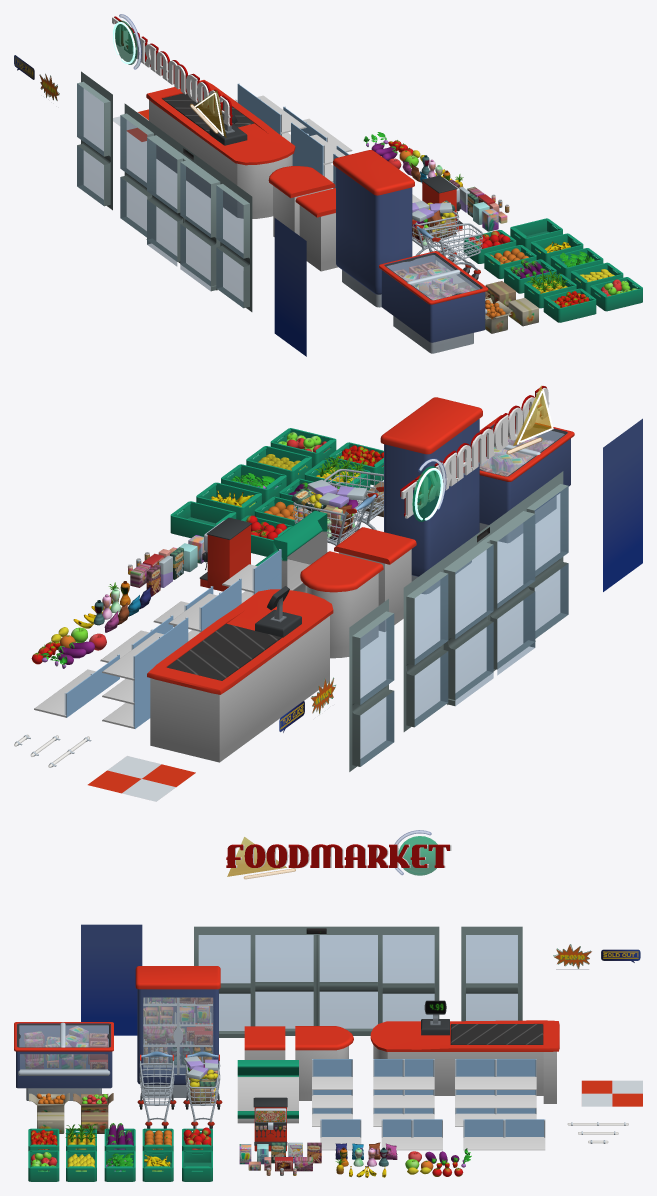
The model's file is market_-_stylized_modular_low_poly_asset_pack.glb.
3 renders of one model, top to bottom at view 1: azimuth 30°, elevation 25°; view 2: azimuth 150°, elevation 25°; view 3: azimuth 270°, elevation 25°, orthographic. The views are drawn at different scales.
Visible parts, largest first — view 1: Door_windows, Caisse, Freezer_Tall, Door, Freezer_long, Wall, Name_Opaque, Counter_Block, Wall_windows_windows, Wall_windows, Counter_Ending, Freezer_long_Glass (+24 smaller); view 2: Caisse, Door_windows, Door, Freezer_Tall, Wall, Name_Opaque, Counter_Ending, Freezer_long, Wall_windows_windows, Wall_windows, Counter_Block, Grocery_Stagger (+25 smaller); view 3: Door_windows, Caisse, Door, Wall, Freezer_Tall, Freezer_long, Name_Opaque, Freezer_tall_Glass, Wall_windows_windows, Freezer_long_Glass, Grocery_Stagger, Freezer_tall_grocery (+31 smaller).
Boxes of the visible parts, bbox=[...] form: Door_windows: bbox=[120, 115, 243, 307]; Caisse: bbox=[146, 80, 295, 218]; Freezer_Tall: bbox=[333, 150, 414, 307]; Door: bbox=[120, 103, 252, 311]; Freezer_long: bbox=[379, 251, 488, 353]; Wall: bbox=[274, 218, 306, 356]; Name_Opaque: bbox=[112, 15, 232, 135]; Counter_Block: bbox=[295, 188, 338, 271]; Wall_windows_windows: bbox=[77, 83, 103, 205]; Wall_windows: bbox=[77, 71, 112, 210]; Counter_Ending: bbox=[268, 166, 335, 236]; Freezer_long_Glass: bbox=[387, 255, 479, 300]; Caisse: bbox=[147, 586, 333, 762]; Door_windows: bbox=[414, 486, 568, 726]; Door: bbox=[403, 471, 568, 731]; Freezer_Tall: bbox=[380, 397, 482, 594]; Wall: bbox=[603, 418, 642, 591]; Name_Opaque: bbox=[400, 386, 553, 520]; Counter_Ending: bbox=[300, 551, 383, 658]; Freezer_long: bbox=[479, 415, 574, 543]; Wall_windows_windows: bbox=[360, 614, 394, 766]; Wall_windows: bbox=[349, 599, 394, 771]; Counter_Block: bbox=[334, 527, 416, 631]; Grocery_Stagger: bbox=[255, 510, 327, 592]; Door_windows: bbox=[198, 935, 434, 1030]; Caisse: bbox=[370, 1000, 559, 1103]; Door: bbox=[194, 926, 439, 1037]; Wall: bbox=[81, 924, 142, 1035]; Freezer_Tall: bbox=[135, 966, 220, 1097]; Freezer_long: bbox=[14, 1022, 113, 1100]; Name_Opaque: bbox=[226, 831, 451, 878]; Freezer_tall_Glass: bbox=[143, 997, 212, 1074]; Wall_windows_windows: bbox=[466, 935, 517, 1020]; Freezer_long_Glass: bbox=[19, 1025, 108, 1069]; Grocery_Stagger: bbox=[237, 1060, 298, 1123]; Freezer_tall_grocery: bbox=[143, 998, 212, 1064].
Bounding box in the file's own units: 17.16 × 11.36 × 30.79.
7 materials, 7 textured.
